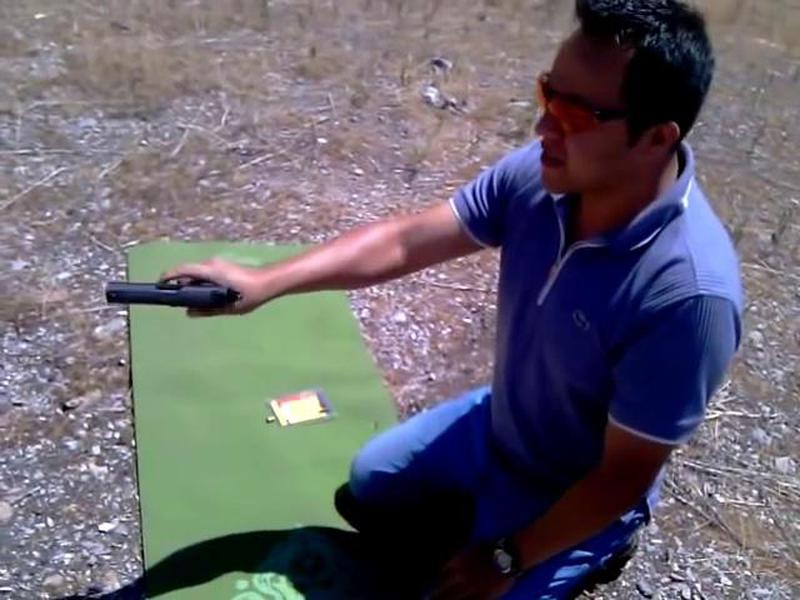Pistola: (91, 257, 251, 331)
